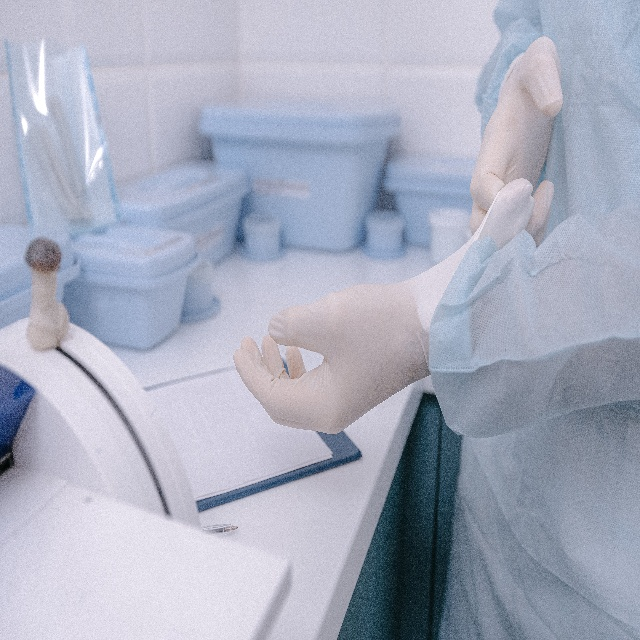Guantes: (231, 178, 534, 435), (471, 36, 566, 240)
